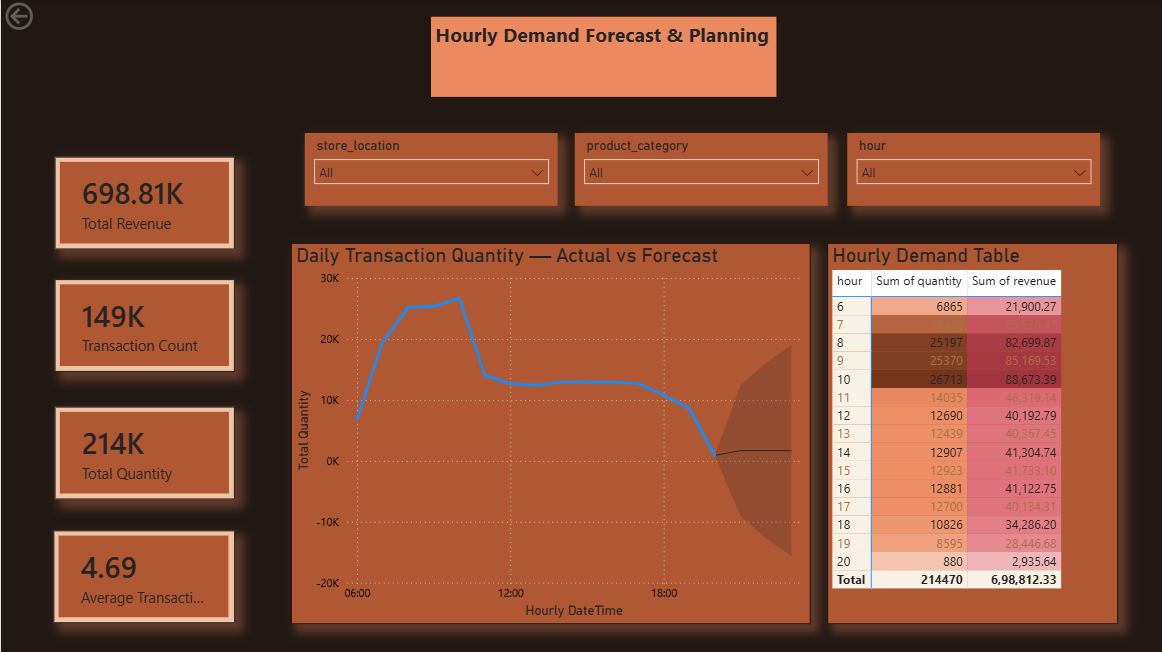

The dashboard page shown, as its layout file describes it:
{"tool":"powerbi","page":{"name":"Hourly Demand Forecast & Planning","canvas":[1280,720],"ordinal":4},"visuals":[{"type":"lineChart","title":"Daily Transaction Quantity — Actual vs Forecast","fields":{"Y":["transactions_clean.Total Quantity"],"Category":["transactions_clean.Hourly DateTime"]},"box":[317.8,268.4,570.7,418],"z":0},{"type":"cardVisual","fields":{"Data":["transactions_clean.Total Revenue"]},"box":[58.6,174.3,197.4,101.8],"z":1000},{"type":"cardVisual","fields":{"Data":["transactions_clean.Transaction Count"]},"box":[58.6,308.5,197.4,101.8],"z":2000},{"type":"cardVisual","fields":{"Data":["transactions_clean.Total Quantity"]},"box":[58.6,448.9,197.4,101.8],"z":3000},{"type":"cardVisual","fields":{"Data":["transactions_clean.Average Transaction Value"]},"box":[57.1,584.6,199,101.8],"z":4000},{"type":"pivotTable","title":"Hourly Demand Table","fields":{"Rows":["hourly_store_demand.hour"],"Values":["Sum(hourly_store_demand.quantity)","Sum(hourly_store_demand.revenue)"]},"box":[907,268.4,319.3,418],"z":5000},{"type":"slicer","fields":{"Values":["transactions_clean.store_location"]},"box":[333.2,148.1,277.7,80.2],"z":6000},{"type":"slicer","fields":{"Values":["transactions_clean.product_category"]},"box":[629.4,148.1,277.7,80.2],"z":7000},{"type":"slicer","fields":{"Values":["transactions_clean.hour"]},"box":[928.6,148.1,277.7,80.2],"z":8000},{"type":"textbox","box":[472,20.1,379.5,87.9],"z":9000},{"type":"actionButton","box":[0,0,100,40],"z":10000}]}

Visuals, with their boxes in screenshot pixels (x1, y1, x2, y2), scaled from the page's 1280x720 canvas onto the 1162x652 screenshot:
"Daily Transaction Quantity — Actual vs Forecast" lineChart: (left=289, top=243, right=807, bottom=622)
cardVisual - transactions_clean.Total Revenue: (left=53, top=158, right=232, bottom=250)
cardVisual - transactions_clean.Transaction Count: (left=53, top=279, right=232, bottom=372)
cardVisual - transactions_clean.Total Quantity: (left=53, top=407, right=232, bottom=499)
cardVisual - transactions_clean.Average Transaction Value: (left=52, top=529, right=232, bottom=622)
"Hourly Demand Table" pivotTable: (left=823, top=243, right=1113, bottom=622)
slicer - transactions_clean.store_location: (left=302, top=134, right=555, bottom=207)
slicer - transactions_clean.product_category: (left=571, top=134, right=823, bottom=207)
slicer - transactions_clean.hour: (left=843, top=134, right=1095, bottom=207)
textbox: (left=428, top=18, right=773, bottom=98)
actionButton: (left=0, top=0, right=91, bottom=36)
